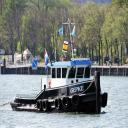tugboat: (10, 56, 110, 118)
